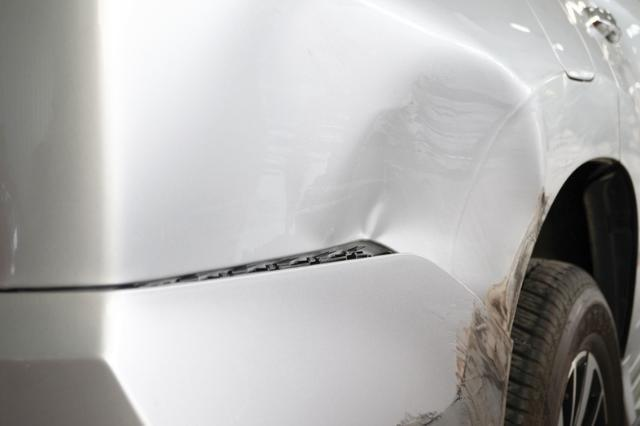Bumper: (437, 292, 500, 426)
Fender: (346, 37, 556, 311)
